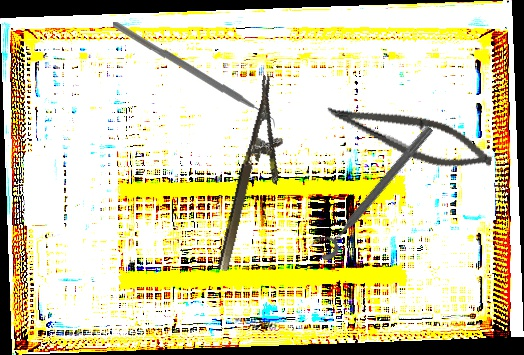Chopper: (113, 19, 275, 138)
Fixation Ring: (307, 116, 438, 264)
Micro Scissor: (320, 94, 498, 179)
Needle Holder: (215, 75, 302, 278)
